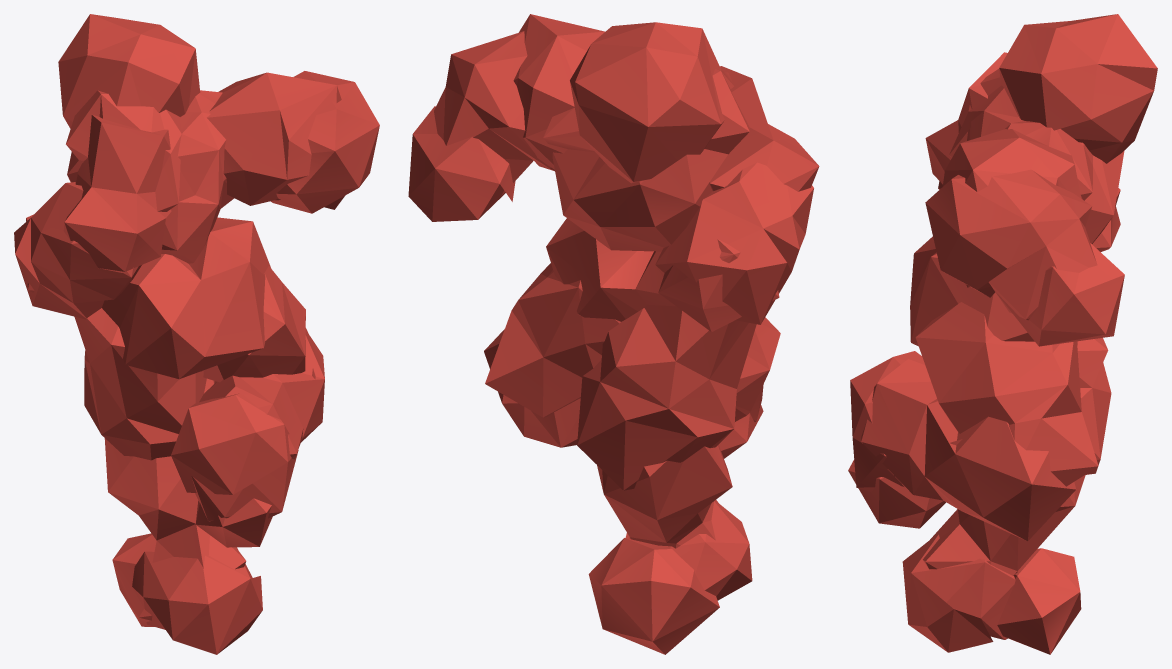
The model's file is dance_frames0349.obj.
3 renders of one model, left to right at view 1: azimuth 30°, elevation 25°; view 2: azimuth 150°, elevation 25°; view 3: azimuth 270°, elevation 25°, orthographic. The views are drawn at different scales.
Parts seen in each view (by area): view 1: Beta_Surface; view 2: Beta_Surface; view 3: Beta_Surface.
Part boxes in pixels (x1,y1,x2,y2): Beta_Surface: (14,14,379,654); Beta_Surface: (408,14,819,654); Beta_Surface: (848,14,1157,654).
Bounding box in the file's own units: 1.17 × 1.94 × 0.8835.
